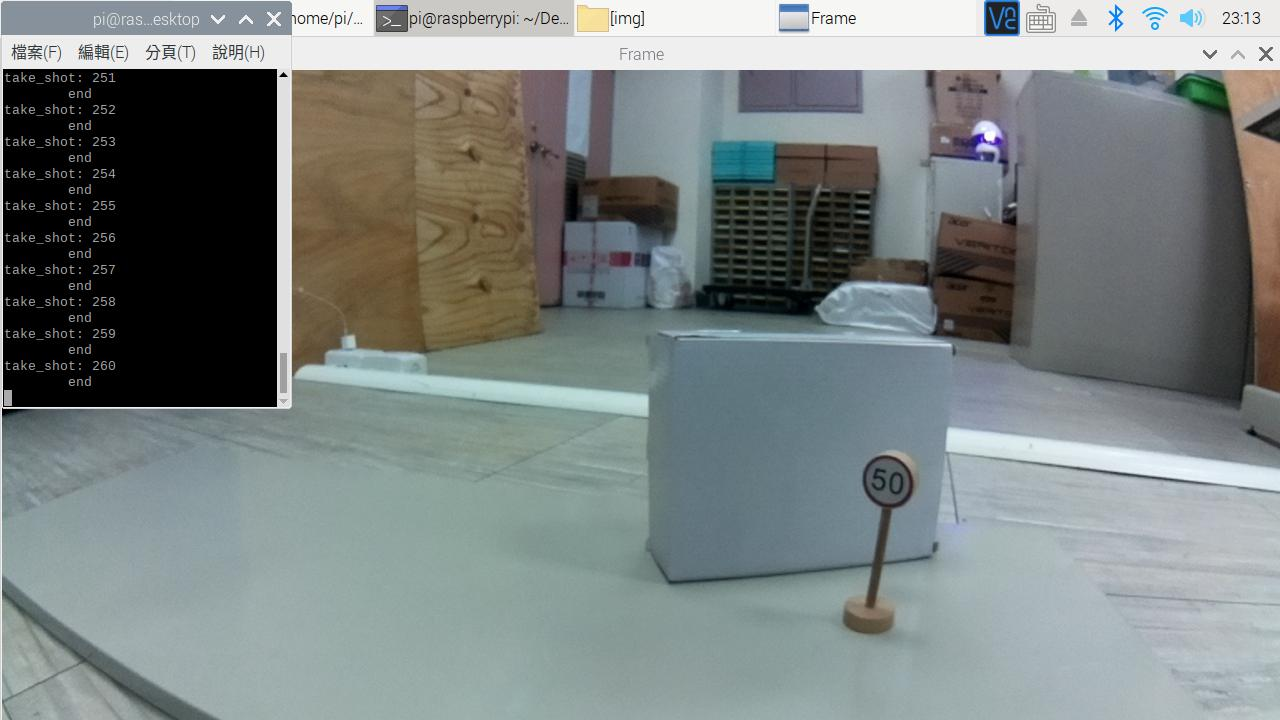Speed50: (848, 440, 933, 517)
